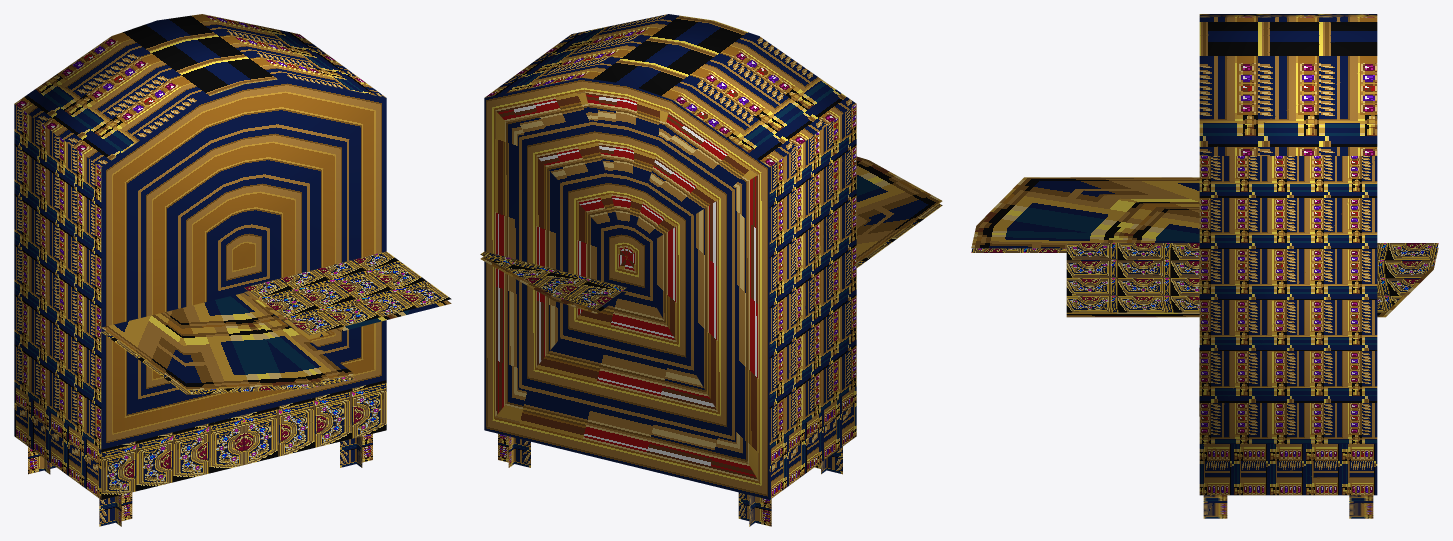
3 renders of one model, left to right at view 1: azimuth 30°, elevation 25°; view 2: azimuth 150°, elevation 25°; view 3: azimuth 270°, elevation 25°, orthographic. The views are drawn at different scales.
Visible parts, largest first — view 1: 3713kg_tr_cl0; view 2: 3713kg_tr_cl0; view 3: 3713kg_tr_cl0.
Part boxes in pixels (left/top/right/bottom): 3713kg_tr_cl0: left=14, top=14, right=451, bottom=526; 3713kg_tr_cl0: left=480, top=14, right=942, bottom=526; 3713kg_tr_cl0: left=971, top=14, right=1438, bottom=518.
Size of the model in its own units: 1.44 by 2 by 2.
Materials: 2 (2 with a texture image).
